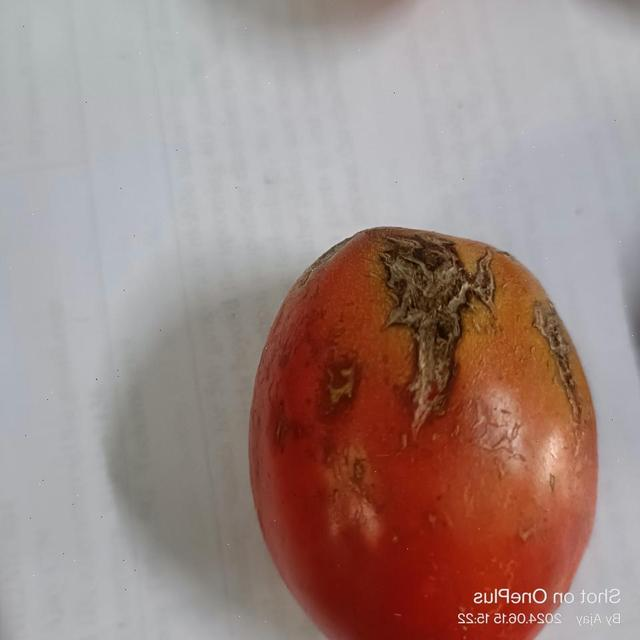Cracking Fruit: (255, 201, 388, 282)
